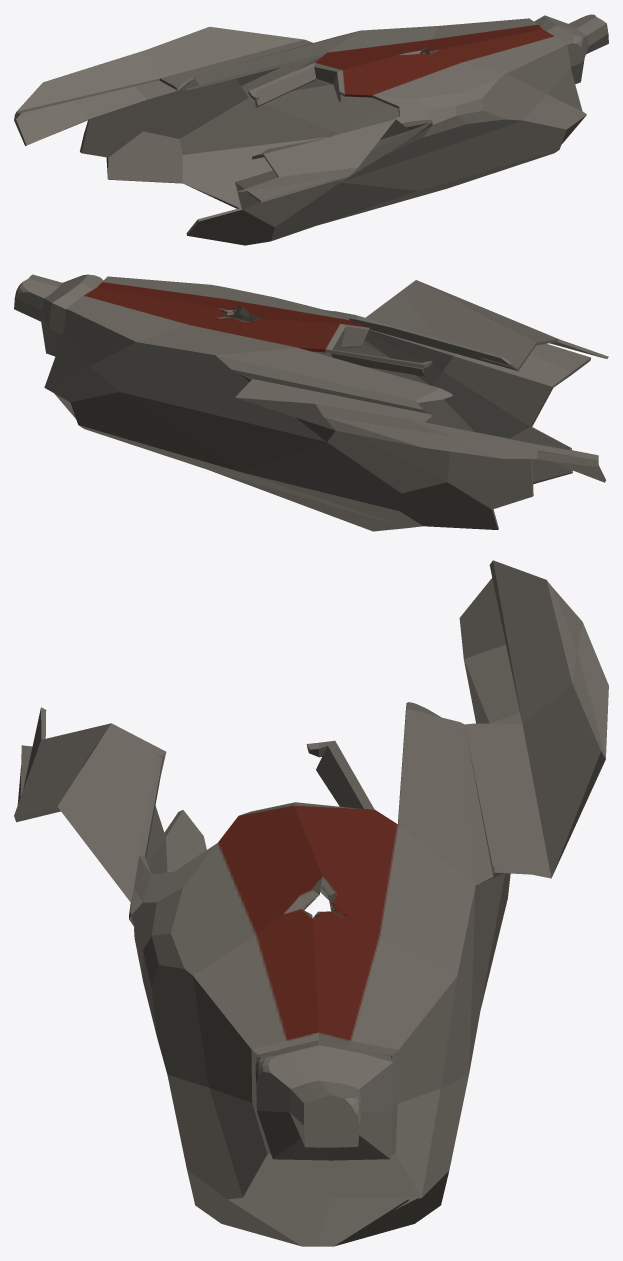
The model's file is Subwreckv2Textured.fbx.
3 views of the same model, one above another, from view 1: azimuth 30°, elevation 25°; view 2: azimuth 150°, elevation 25°; view 3: azimuth 270°, elevation 25° (orthographic). The views are drawn at different scales.
Visible parts, largest first — view 1: SubWreck; view 2: SubWreck; view 3: SubWreck.
Boxes of the visible parts, box(x1,y1,x2,y2) form: SubWreck: box(14, 14, 608, 245); SubWreck: box(14, 274, 608, 531); SubWreck: box(14, 560, 608, 1246).
Size of the model in its own units: 2226 by 631 by 1059.
